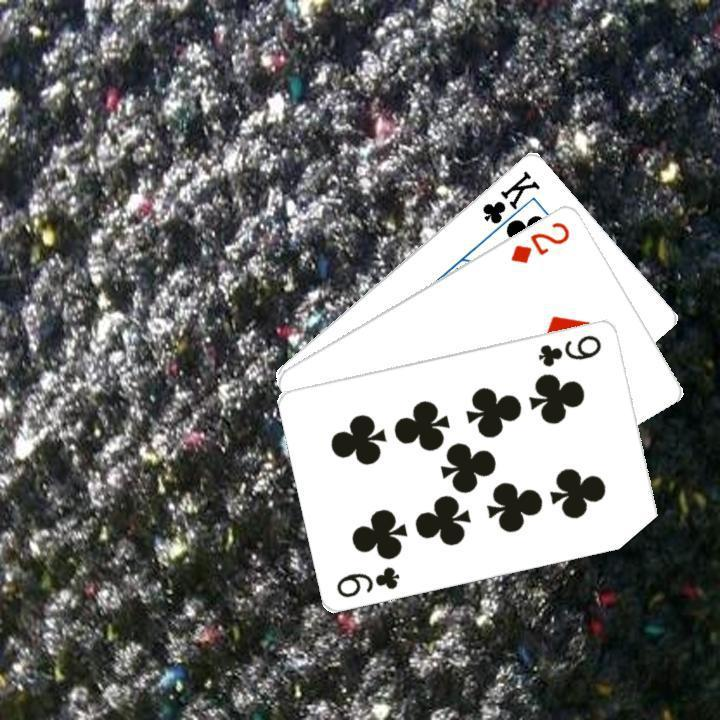2: (506, 216, 572, 265)
9: (533, 329, 604, 369), (332, 561, 403, 599)
K: (478, 165, 543, 238)
